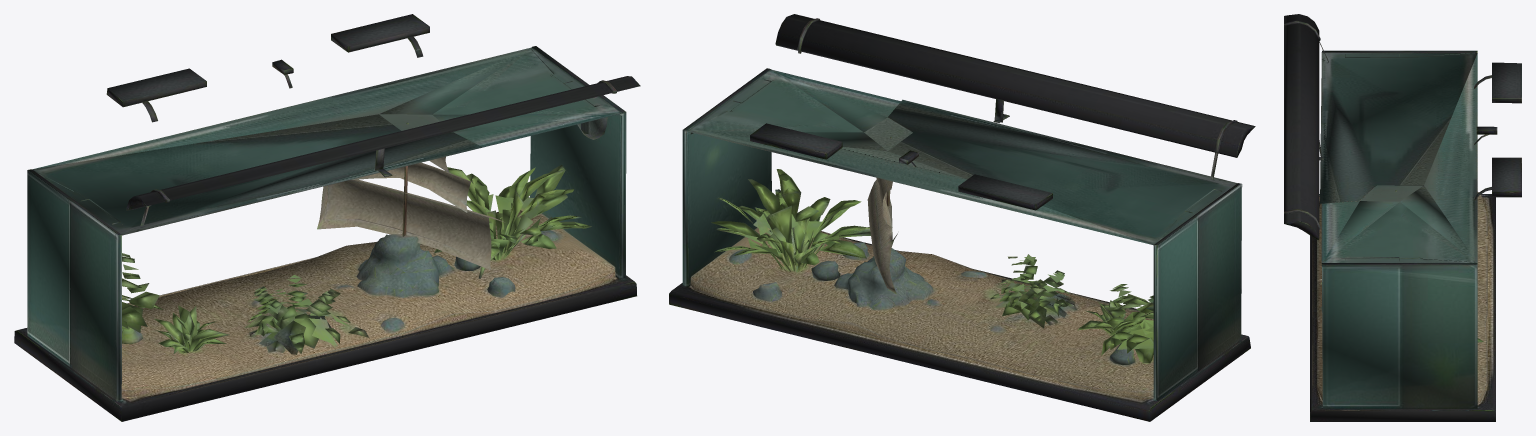
File: office-aquarium.glb
The picture shows the model from 3 angles, left to right: view 1: azimuth 30°, elevation 25°; view 2: azimuth 150°, elevation 25°; view 3: azimuth 270°, elevation 25°; orthographic projection. The views are drawn at different scales.
Visible parts, largest first — view 1: aquarium; view 2: aquarium; view 3: aquarium.
Boxes of the visible parts, left/top/right/bottom form: aquarium: left=14, top=14, right=640, bottom=421; aquarium: left=669, top=14, right=1255, bottom=421; aquarium: left=1284, top=14, right=1521, bottom=421.
Bounding box in the file's own units: 1.5 × 0.6359 × 0.6952.
1 material, 1 textured.
